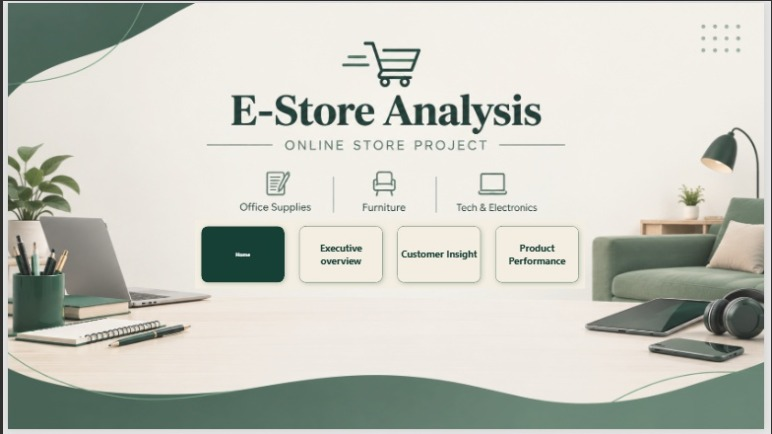

What the dashboard file says about the page in this screenshot:
{"tool":"powerbi","page":{"name":"Home","canvas":[2560,1440],"ordinal":0},"visuals":[{"type":"pageNavigator","box":[632.1,734.2,1320.9,232.4],"z":0}]}

Visuals, with their boxes in screenshot pixels (x1, y1, x2, y2), scaled from the page's 2560x1440 canvas onto the 772x434 screenshot:
pageNavigator: pyautogui.locateOnScreen(191, 221, 589, 291)
